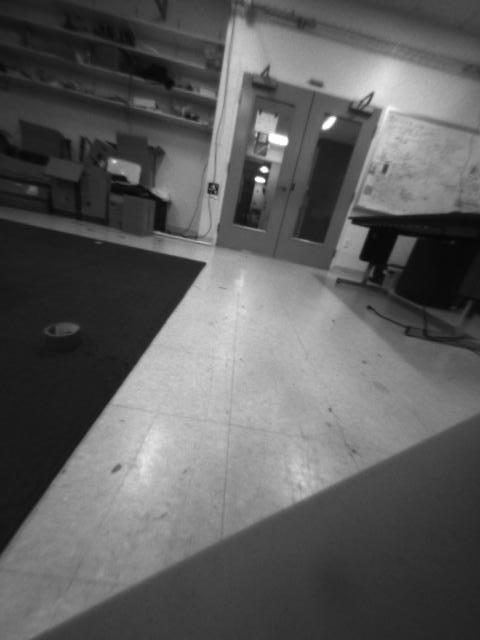dogtoy: (35, 314, 89, 347)
